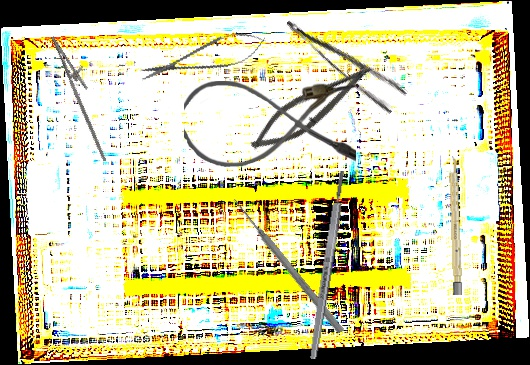Cannula: (184, 81, 356, 167)
Dressing Forceps: (284, 1, 409, 117)
Micro Scissor: (243, 49, 380, 164), (135, 23, 271, 92)
Needle Holder: (36, 30, 130, 163)
Pusher: (230, 195, 346, 336)
Scalpel Handle: (307, 170, 348, 360), (448, 155, 463, 296)
